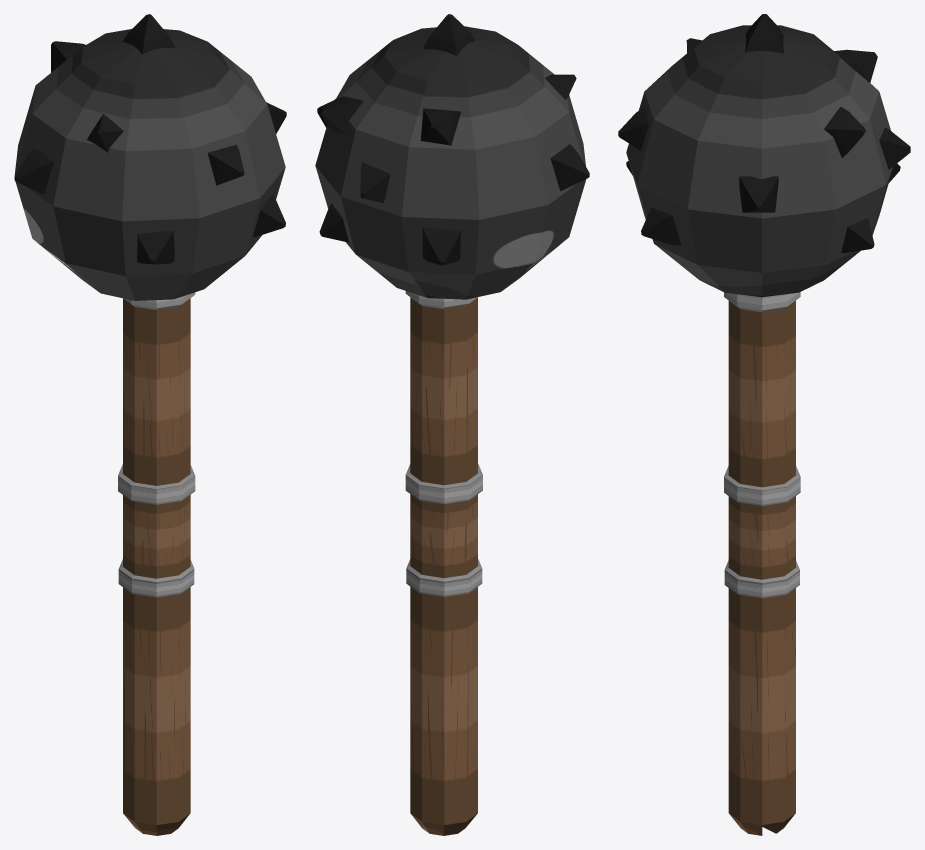
The model's file is SpikedWeapon.fbx.
3 renders of one model, left to right at view 1: azimuth 30°, elevation 25°; view 2: azimuth 150°, elevation 25°; view 3: azimuth 270°, elevation 25°, orthographic.
Visible parts, largest first — view 1: pSphere1, pCylinder1, pasted__pasted__pasted__pasted__pCube3, pCube1, pasted__pasted__pCube1, pasted__pasted__pasted__pCube2, pasted__pasted__pasted__pasted__pCube1, pasted__pasted__pasted__pasted__pasted__pCube4, pasted__pasted__pasted__pasted__pasted__pCube3; view 2: pSphere1, pCylinder1, pasted__pasted__pasted__pCube1, pCube1, pasted__pasted__pasted__pasted__pasted__pCube3, pasted__pasted__pCube1, pasted__pasted__pasted__pasted__pasted__pCube1, pasted__pasted__pasted__pasted__pCube2, pasted__pasted__pasted__pasted__pasted__pCube2; view 3: pSphere1, pCylinder1, pasted__pCube1, pCube1, pasted__pasted__pasted__pasted__pasted__pCube1, pasted__pasted__pasted__pasted__pCube1, pasted__pasted__pasted__pasted__pasted__pCube2, pasted__pasted__pasted__pCube2, pasted__pasted__pasted__pasted__pasted__pCube3, pasted__pasted__pasted__pasted__pCube2.
Part boxes in pixels (left/top/right/bottom): pSphere1: left=14, top=29, right=285, bottom=300; pCylinder1: left=118, top=292, right=195, bottom=835; pasted__pasted__pasted__pasted__pCube3: left=137, top=230, right=174, bottom=264; pCube1: left=122, top=14, right=175, bottom=54; pasted__pasted__pCube1: left=14, top=148, right=53, bottom=194; pasted__pasted__pasted__pCube2: left=207, top=144, right=244, bottom=185; pasted__pasted__pasted__pasted__pCube1: left=253, top=194, right=285, bottom=236; pasted__pasted__pasted__pasted__pasted__pCube4: left=87, top=114, right=123, bottom=152; pasted__pasted__pasted__pasted__pasted__pCube3: left=51, top=41, right=85, bottom=72; pSphere1: left=315, top=26, right=586, bottom=299; pCylinder1: left=405, top=291, right=482, bottom=835; pasted__pasted__pasted__pCube1: left=422, top=227, right=460, bottom=265; pCube1: left=422, top=14, right=475, bottom=56; pasted__pasted__pasted__pasted__pasted__pCube3: left=420, top=108, right=461, bottom=145; pasted__pasted__pCube1: left=550, top=144, right=589, bottom=190; pasted__pasted__pasted__pasted__pasted__pCube1: left=320, top=96, right=363, bottom=134; pasted__pasted__pasted__pasted__pCube2: left=360, top=162, right=390, bottom=203; pasted__pasted__pasted__pasted__pasted__pCube2: left=319, top=203, right=348, bottom=242; pSphere1: left=626, top=25, right=893, bottom=297; pCylinder1: left=724, top=292, right=800, bottom=835; pasted__pCube1: left=739, top=176, right=778, bottom=212; pCube1: left=745, top=14, right=783, bottom=53; pasted__pasted__pasted__pasted__pasted__pCube1: left=824, top=107, right=865, bottom=157; pasted__pasted__pasted__pasted__pCube1: left=641, top=207, right=681, bottom=245; pasted__pasted__pasted__pasted__pasted__pCube2: left=841, top=218, right=874, bottom=253; pasted__pasted__pasted__pCube2: left=618, top=107, right=649, bottom=150; pasted__pasted__pasted__pasted__pasted__pCube3: left=834, top=49, right=877, bottom=82; pasted__pasted__pasted__pasted__pCube2: left=879, top=127, right=910, bottom=169.
Bounding box in the file's own units: 3.74 × 10.76 × 3.53.
